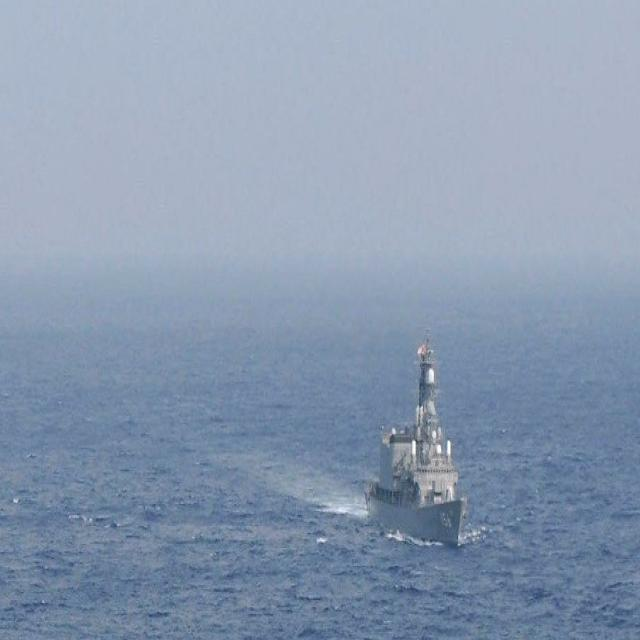navalvessels: (358, 325, 468, 561)
